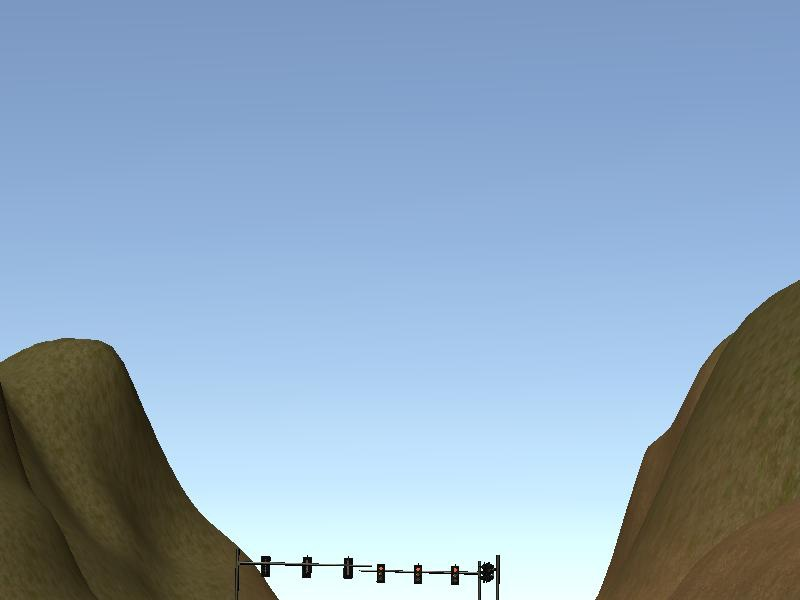Red: (409, 562, 422, 588), (375, 562, 387, 586), (449, 564, 460, 588)
